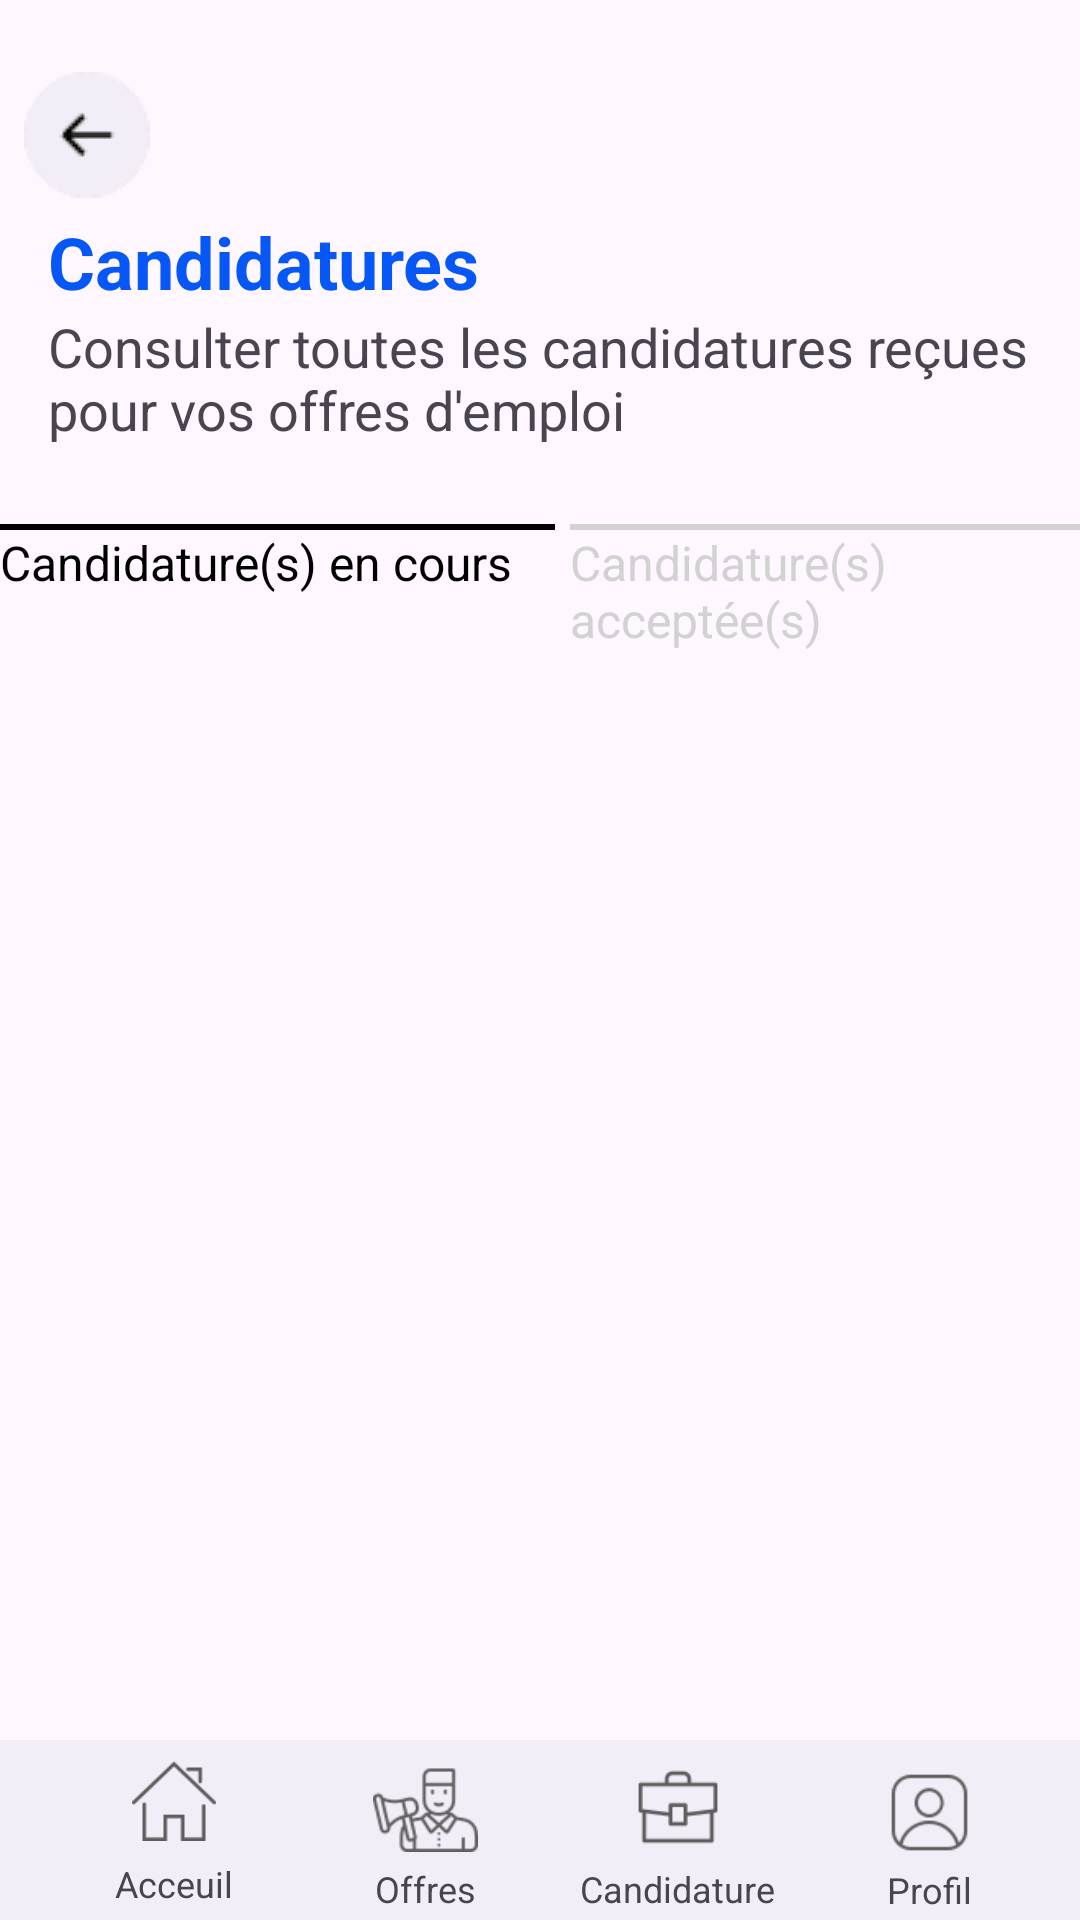

Icon bounding boxes for this 1080 × 1920 phone screenshot, format {"left": x1, "top": y1, "right": x2, "bottom": y2}:
back: {"left": 24, "top": 72, "right": 150, "bottom": 198}
recruiter: {"left": 373, "top": 1768, "right": 478, "bottom": 1852}
user: {"left": 891, "top": 1774, "right": 968, "bottom": 1851}
